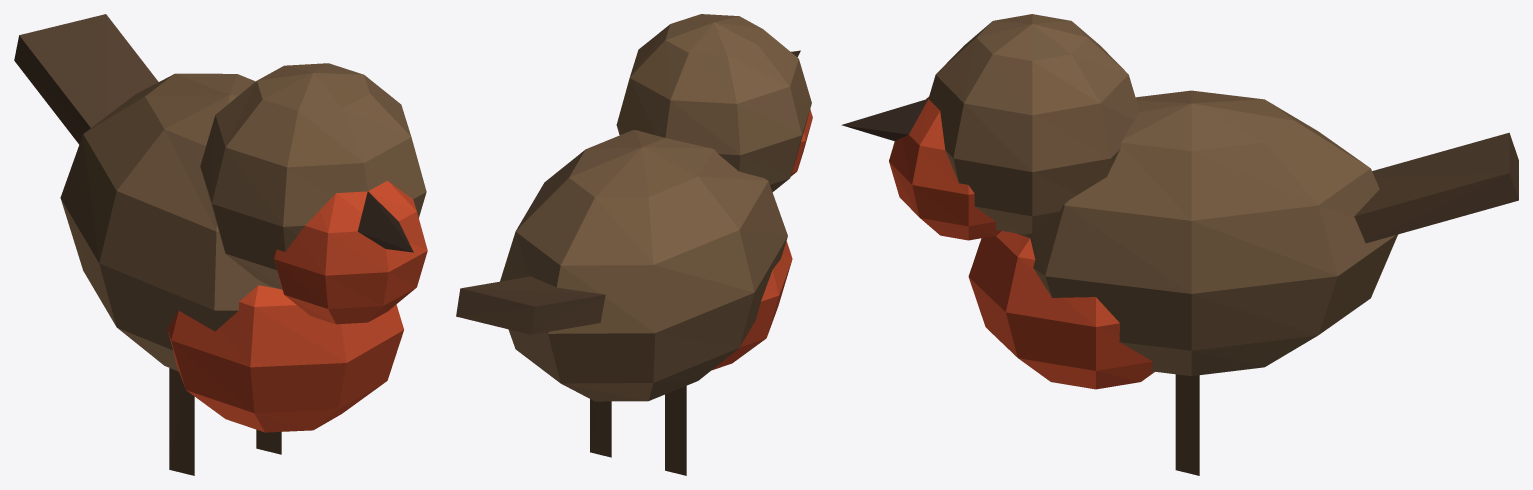
The model's file is bete-rougegorge.glb.
The picture shows the model from 3 angles, left to right: view 1: azimuth 30°, elevation 25°; view 2: azimuth 150°, elevation 25°; view 3: azimuth 270°, elevation 25°; orthographic projection. The views are drawn at different scales.
Bounding box in the file's own units: 0.0854 × 0.14 × 0.2019.
